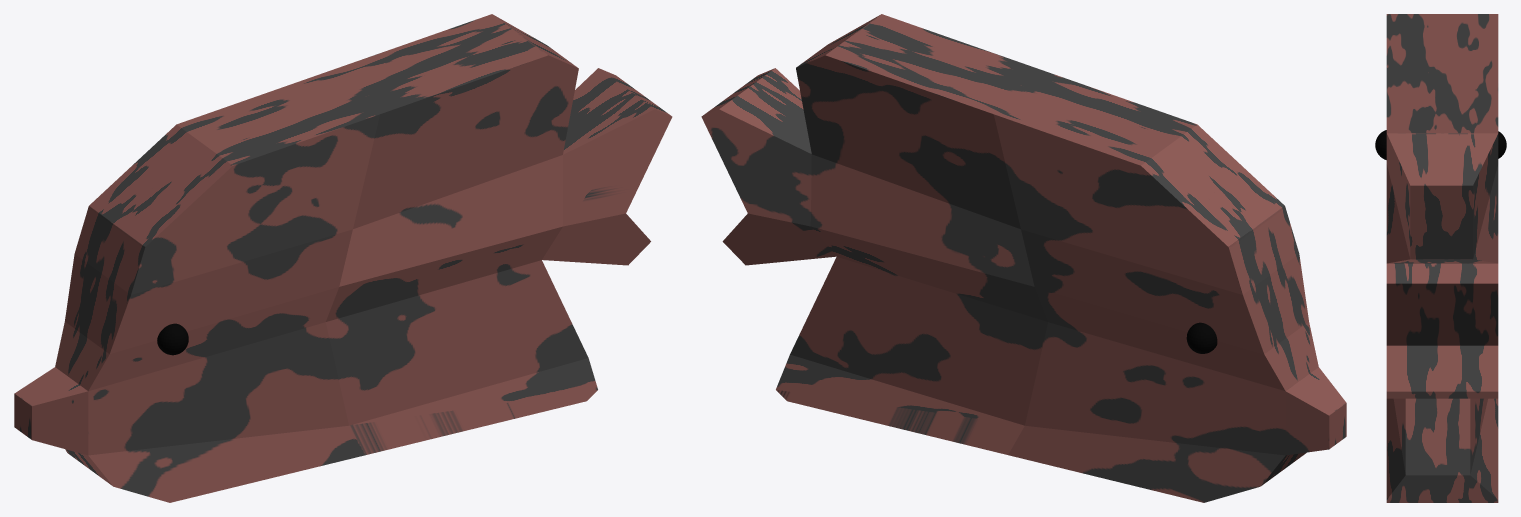
File: Fish5.glb
The picture shows the model from 3 angles, left to right: view 1: azimuth 30°, elevation 25°; view 2: azimuth 150°, elevation 25°; view 3: azimuth 270°, elevation 25°; orthographic projection.
Visible parts, largest first — view 1: Cube, Sphere.001; view 2: Cube, Sphere.001; view 3: Cube, Sphere.001.
Boxes of the visible parts, <box> form: Cube: <box>14,14,672,502</box>; Sphere.001: <box>157,323,188,355</box>; Cube: <box>701,14,1346,502</box>; Sphere.001: <box>1186,322,1217,353</box>; Cube: <box>1386,14,1498,502</box>; Sphere.001: <box>1375,130,1506,159</box>.
Size of the model in its own units: 1.08 by 0.5961 by 0.2023.
2 materials, 1 textured.
